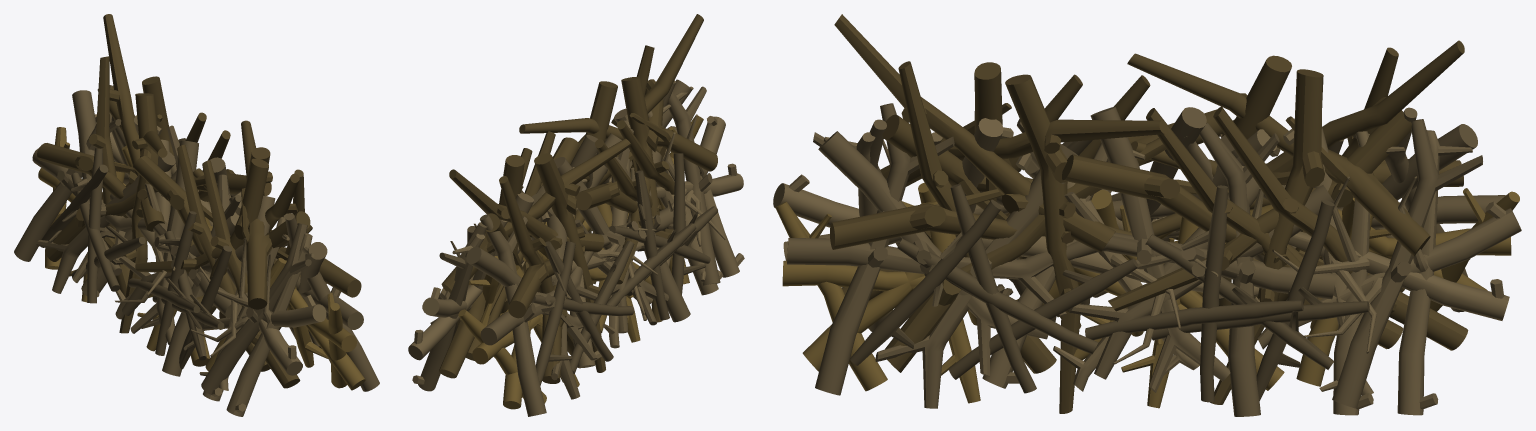
File: stockdamm.fbx
3 views of the same model, side by side, from view 1: azimuth 30°, elevation 25°; view 2: azimuth 150°, elevation 25°; view 3: azimuth 270°, elevation 25° (orthographic). The views are drawn at different scales.
Parts seen in each view (by area): view 1: stockdamm; view 2: stockdamm; view 3: stockdamm.
Part boxes in pixels (<box>): stockdamm: <box>14,14,379,416</box>; stockdamm: <box>408,14,744,416</box>; stockdamm: <box>773,14,1521,416</box>.
Size of the model in its own units: 106 by 169 by 319.
